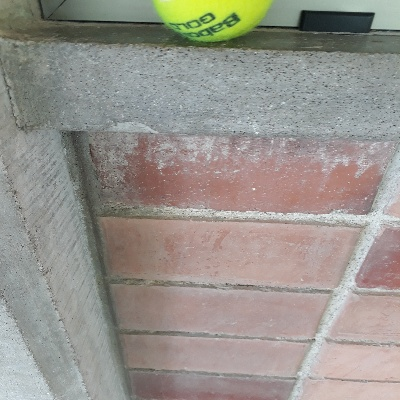Ball: (154, 0, 272, 42)
